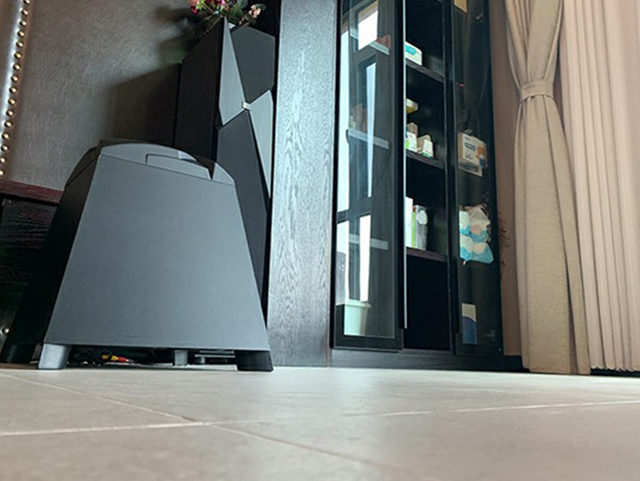cabinet: (265, 1, 505, 370)
curtain: (504, 1, 640, 378)
